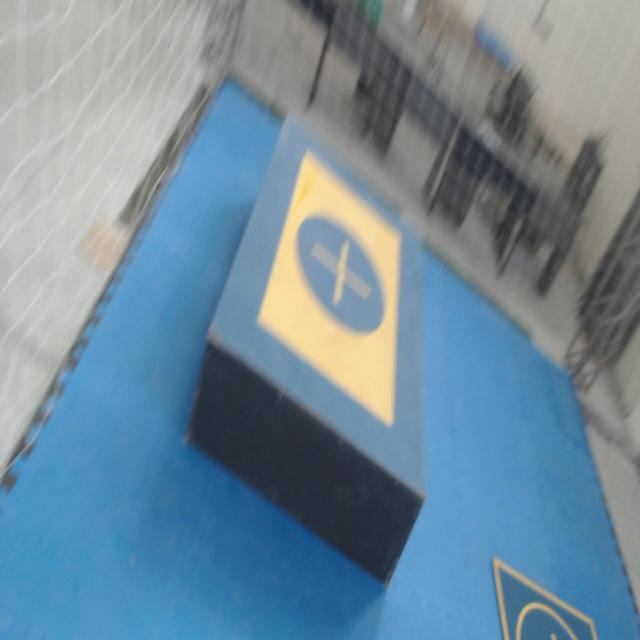base_inicio: (257, 147, 401, 428)
base_pouso: (492, 561, 597, 639)
